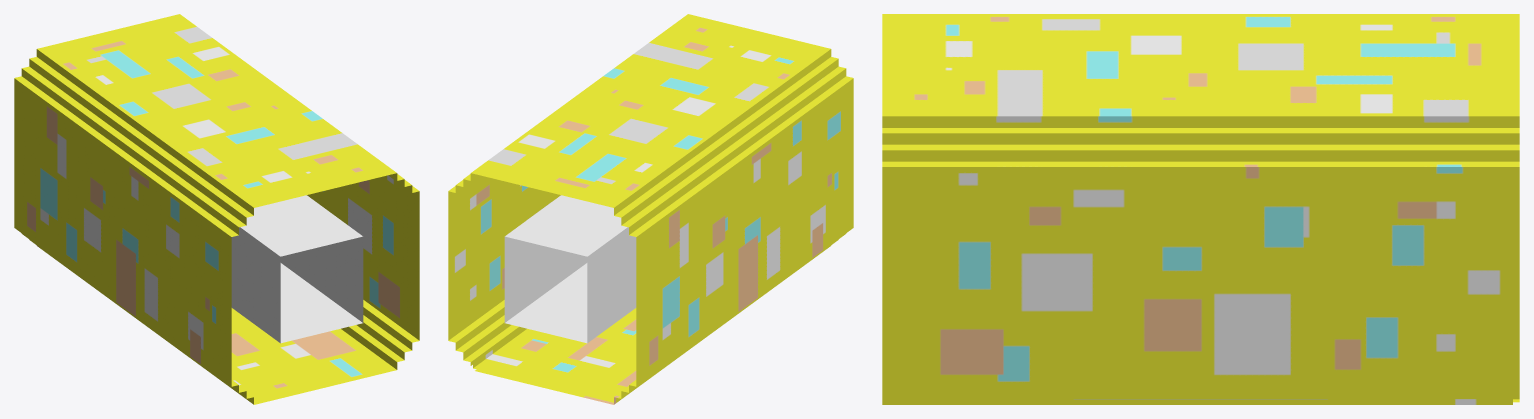
File: starBridge2.fbx
3 views of the same model, side by side, from view 1: azimuth 30°, elevation 25°; view 2: azimuth 150°, elevation 25°; view 3: azimuth 270°, elevation 25° (orthographic). The views are drawn at different scales.
Visible parts, largest first — view 1: starLine2; view 2: starLine2; view 3: starLine2.
Boxes of the visible parts, x1,y1,x2,y2 form: starLine2: [14, 14, 419, 404]; starLine2: [448, 14, 853, 404]; starLine2: [882, 14, 1519, 404].
Bounding box in the file's own units: 500 × 500 × 1000.
1 material, 1 textured.
